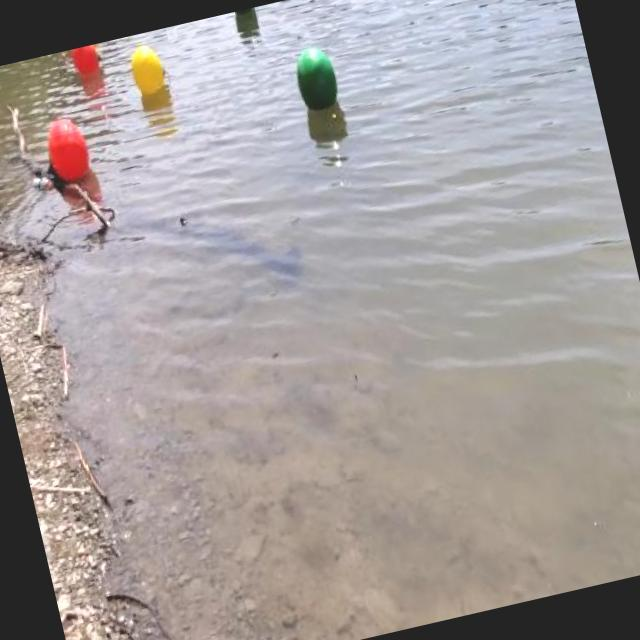buoy: (34, 111, 94, 187), (288, 39, 344, 116), (128, 39, 174, 100), (68, 42, 108, 78), (233, 7, 257, 19)
